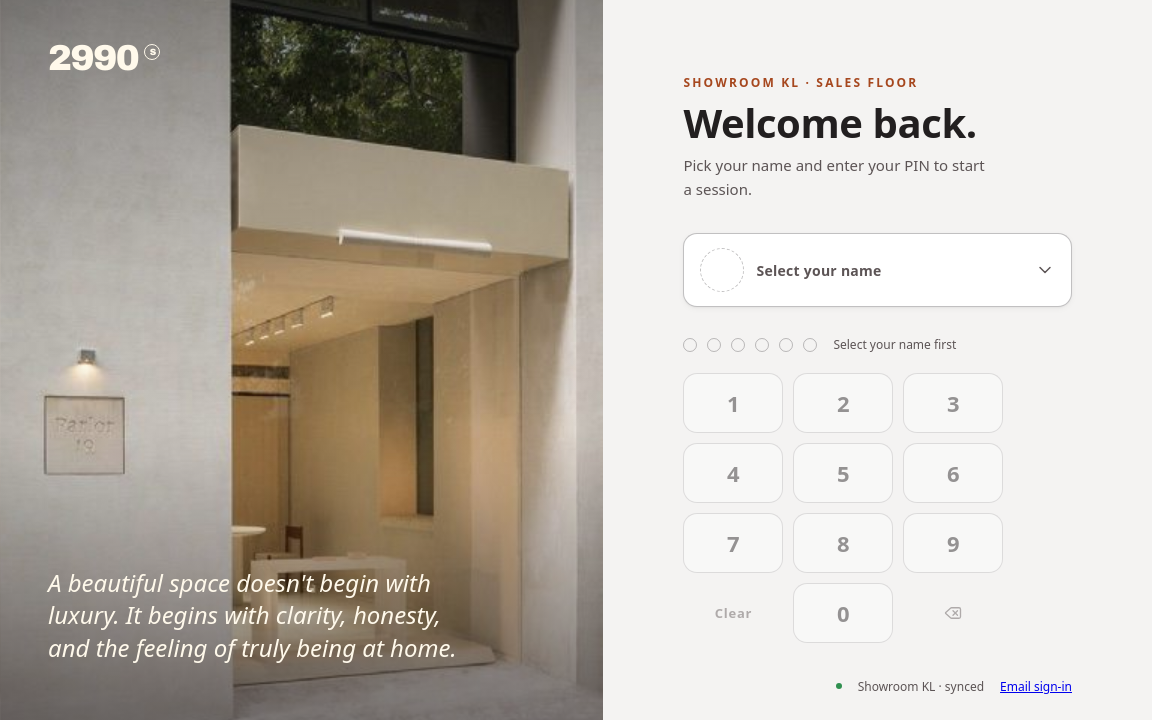
LockScreen staff picker › Escape closes without choosing
Click the button "Select your name" at (878, 270), box [683,233,1072,307]
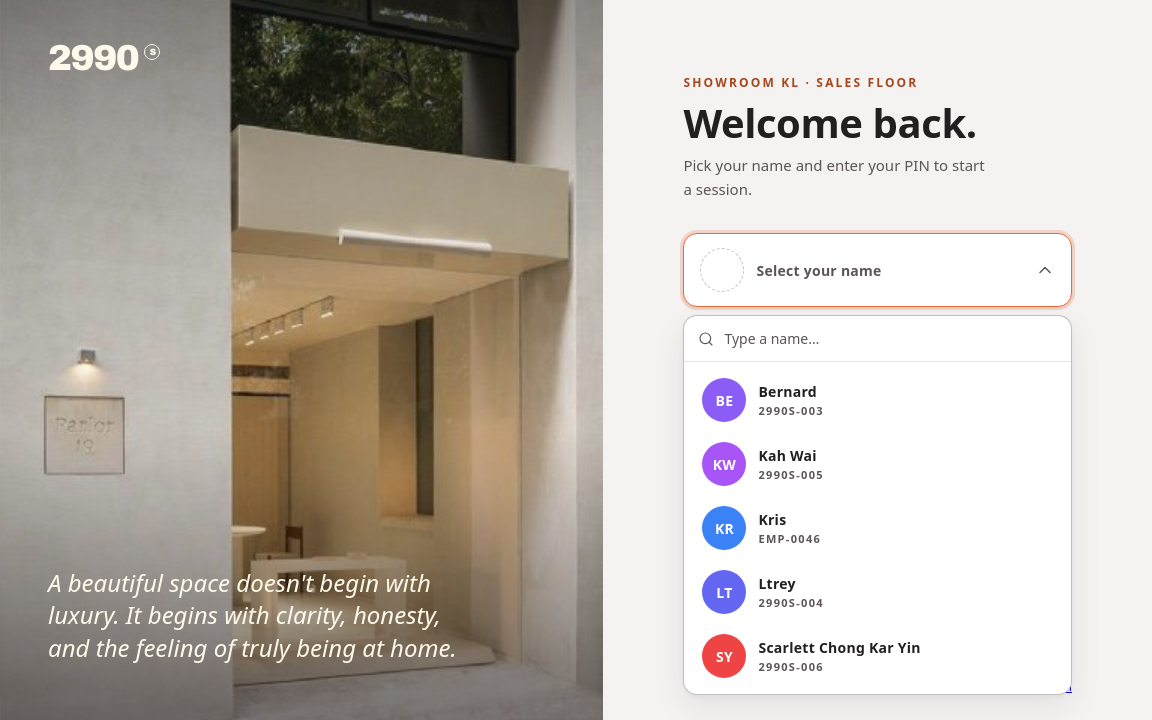
Press Escape in the field named "filter staff", box [722,328,1057,349]
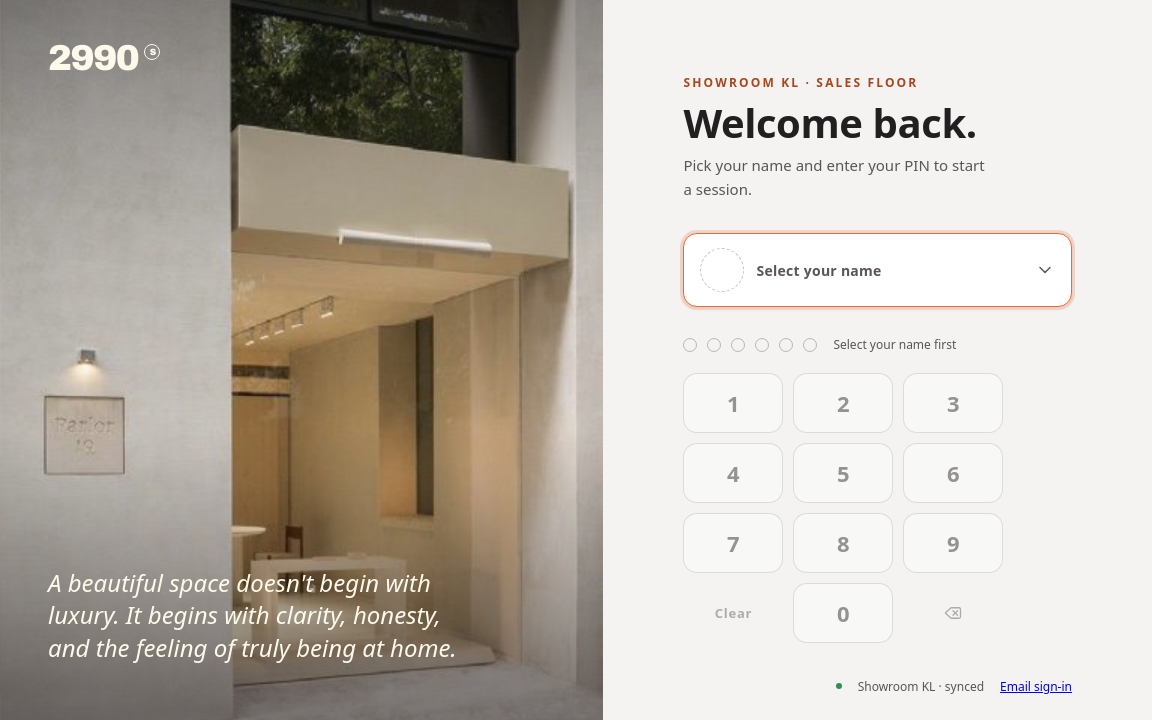
Expected: the text "Select your name" is shown, [756,261,882,280]
Expected: the list is gone
